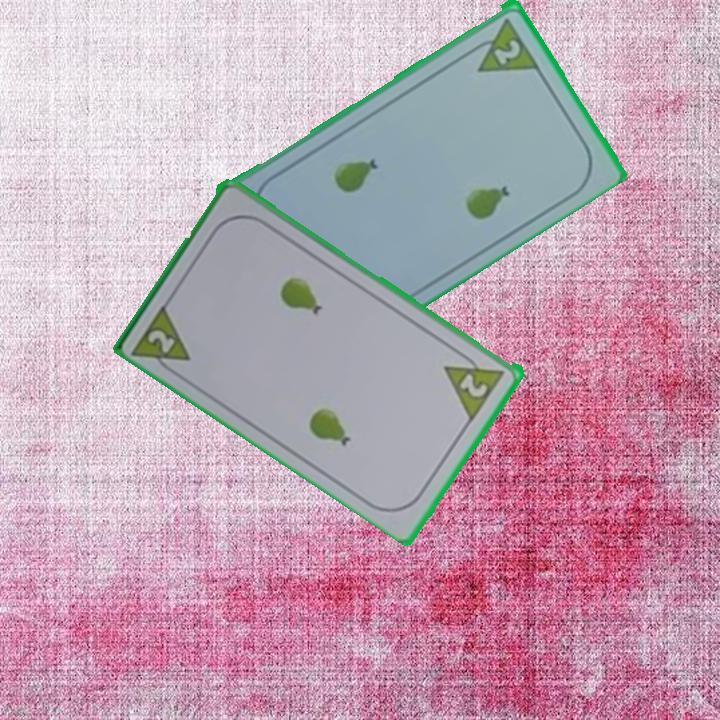2p: (129, 298, 194, 380), (441, 345, 508, 422), (490, 35, 524, 67)
